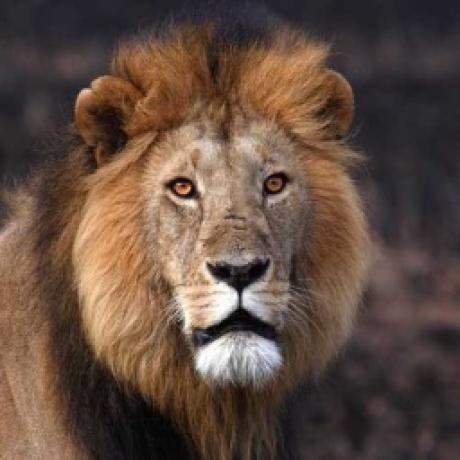Lion: (0, 11, 374, 460)
